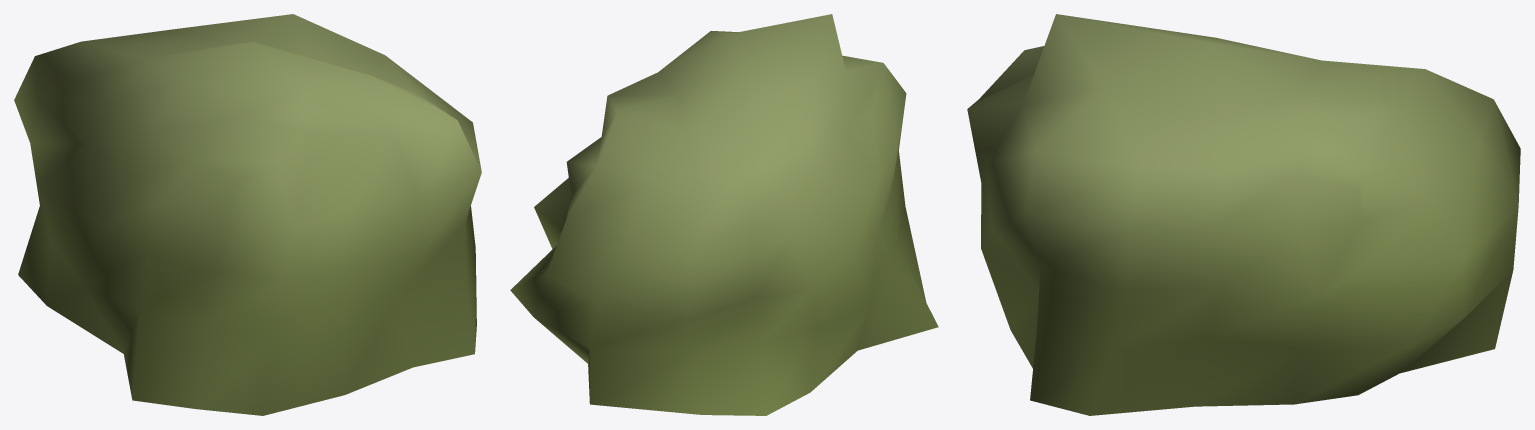
The model's file is WE02_Brush27.fbx.
The picture shows the model from 3 angles, left to right: view 1: azimuth 30°, elevation 25°; view 2: azimuth 150°, elevation 25°; view 3: azimuth 270°, elevation 25°; orthographic projection. The views are drawn at different scales.
Parts seen in each view (by area): view 1: WE02_Brush27; view 2: WE02_Brush27; view 3: WE02_Brush27.
Boxes of the visible parts, <box> form: WE02_Brush27: <box>14,14,481,415</box>; WE02_Brush27: <box>510,14,938,415</box>; WE02_Brush27: <box>967,14,1520,415</box>.
Size of the model in its own units: 6.97 by 5.62 by 9.22.
